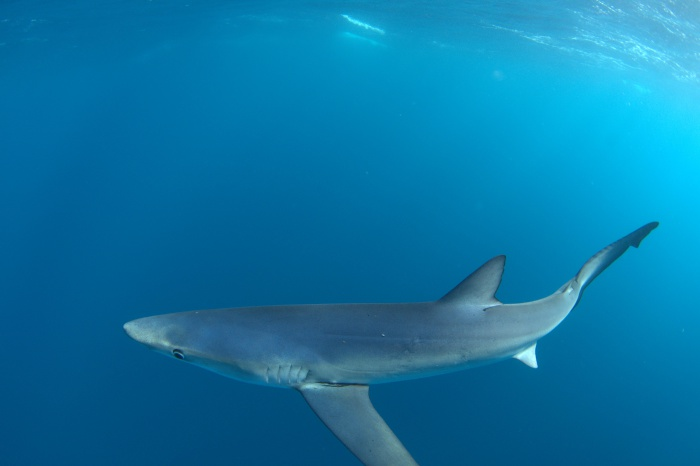Azul: (61, 212, 673, 466)
